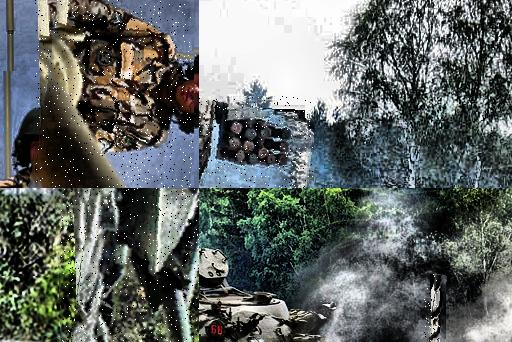tanks: (72, 189, 200, 342), (36, 1, 124, 189), (200, 251, 321, 342), (200, 101, 314, 179), (429, 275, 441, 342)
